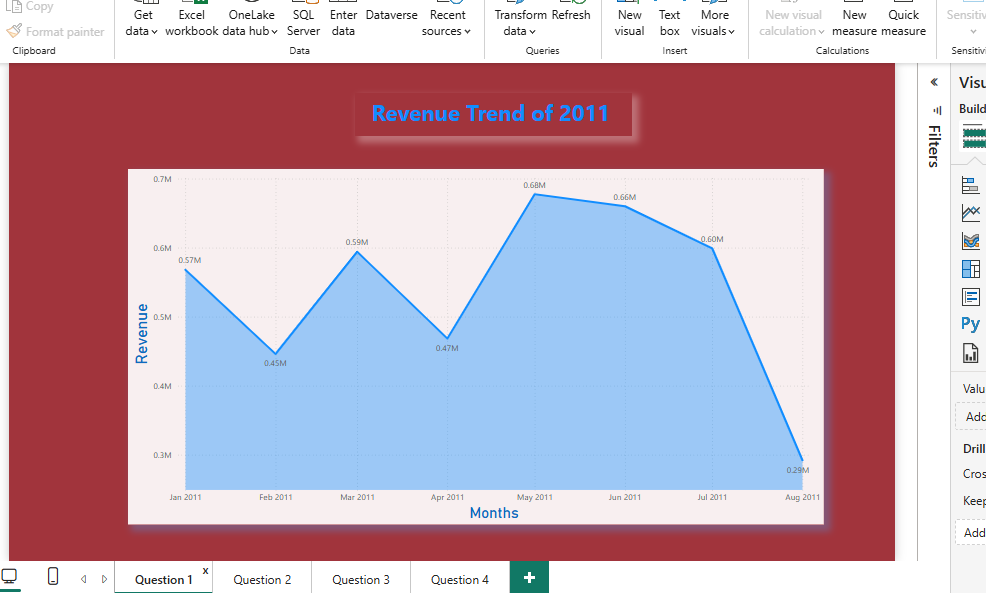

What the dashboard file says about the page in this screenshot:
{"tool":"powerbi","page":{"name":"Question 1","canvas":[1280,720],"ordinal":0},"visuals":[{"type":"lineChart","title":"Revenue Trend By Months","fields":{"Y":["Sum(Online Retail.Total Price)"],"Category":["Online Retail.InvoiceDate.Variation.Date Hierarchy.Year","Online Retail.InvoiceDate.Variation.Date Hierarchy.Month"]},"box":[171.3,152.9,1006.2,514],"z":0},{"type":"textbox","box":[500,44,400,62],"z":1000}]}

Visuals, with their boxes on the page's 1280x720 design canvas (x1, y1, x2, y2). These are canvas units, not pixel positions in the 986x593 screenshot, which may show the page scaled, cropped or inside an application window:
"Revenue Trend By Months" lineChart: [x1=171, y1=153, x2=1178, y2=667]
textbox: [x1=500, y1=44, x2=900, y2=106]
